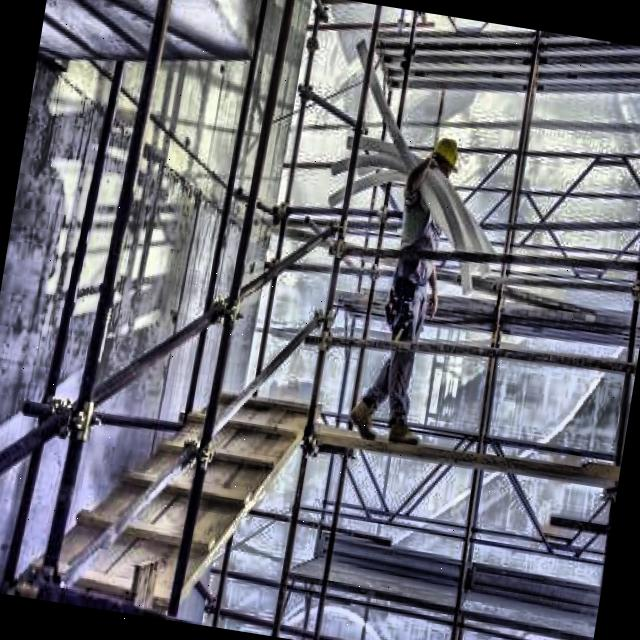helmet: (424, 136, 460, 190)
